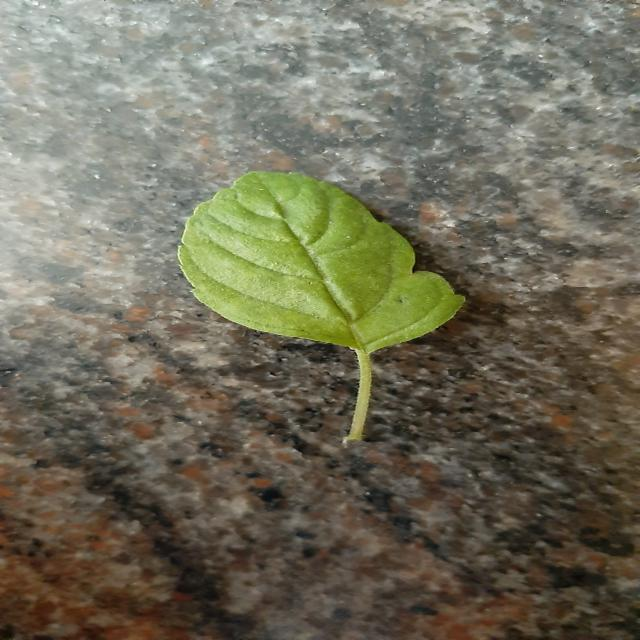tulsi: (179, 171, 463, 352)
